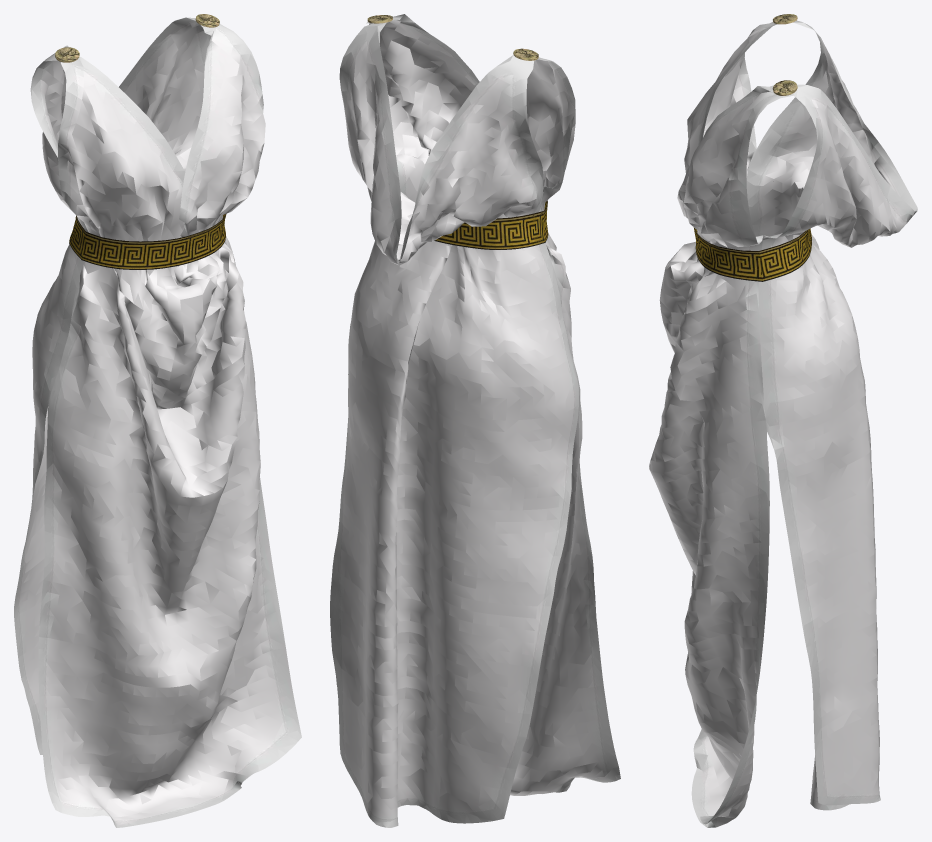
File: elvs-goddess-dress1.glb
3 views of the same model, side by side, from view 1: azimuth 30°, elevation 25°; view 2: azimuth 150°, elevation 25°; view 3: azimuth 270°, elevation 25° (orthographic). The views are drawn at different scales.
Parts seen in each view (by area): view 1: goddess dress; view 2: goddess dress; view 3: goddess dress.
Boxes of the visible parts, <box> form: goddess dress: <box>14,14,301,827</box>; goddess dress: <box>330,14,620,827</box>; goddess dress: <box>649,14,917,827</box>.
Size of the model in its own units: 47.25 by 133 by 43.25.
1 material, 1 textured.
